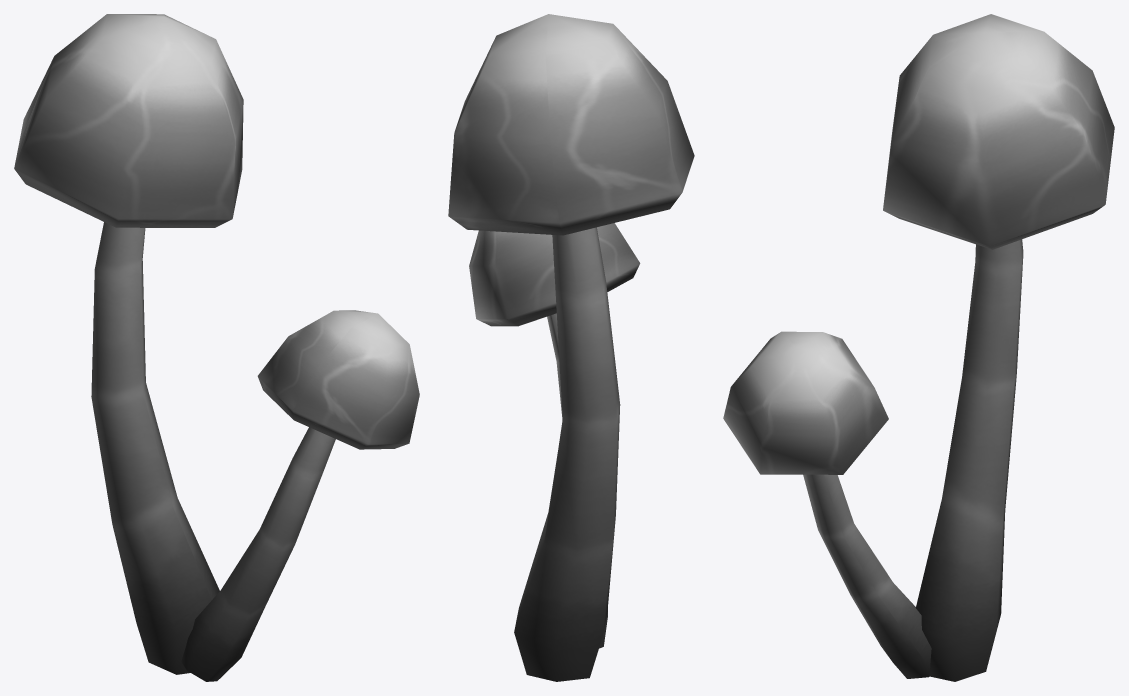
File: cave mushroom clumpB.FBX
3 views of the same model, side by side, from view 1: azimuth 30°, elevation 25°; view 2: azimuth 150°, elevation 25°; view 3: azimuth 270°, elevation 25° (orthographic). The views are drawn at different scales.
Parts seen in each view (by area): view 1: Object012; view 2: Object012; view 3: Object012.
Boxes of the visible parts, x1,y1,x2,y2 form: Object012: (14,14,419,681); Object012: (448,14,694,681); Object012: (723,14,1114,681).
Size of the model in its own units: 1.11 by 2.36 by 1.31.
